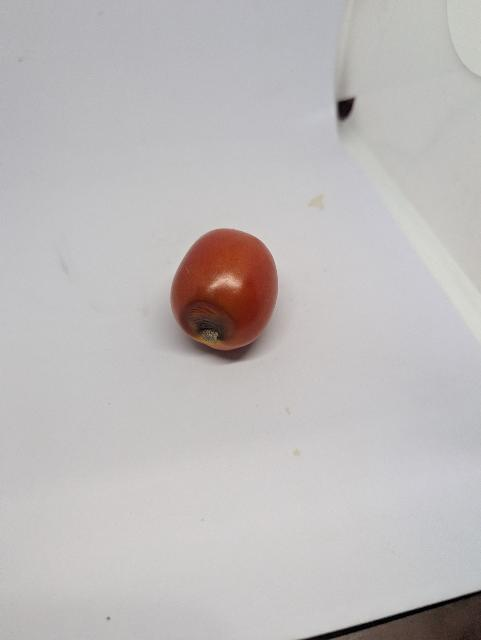defect: (168, 224, 285, 358)
